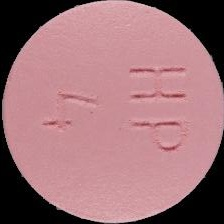43353-919: (0, 0, 224, 224)
